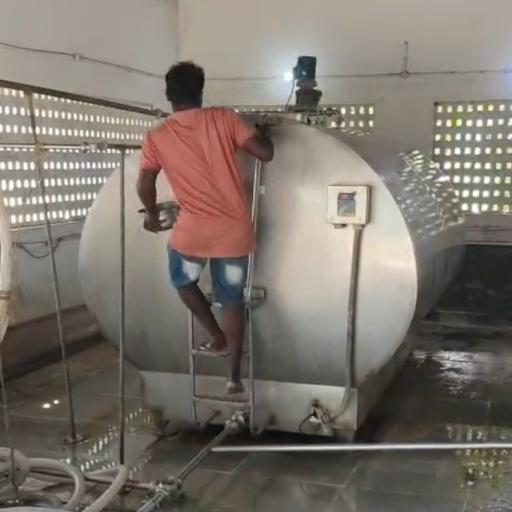silo: (78, 108, 467, 435)
vessel: (137, 200, 179, 232)
